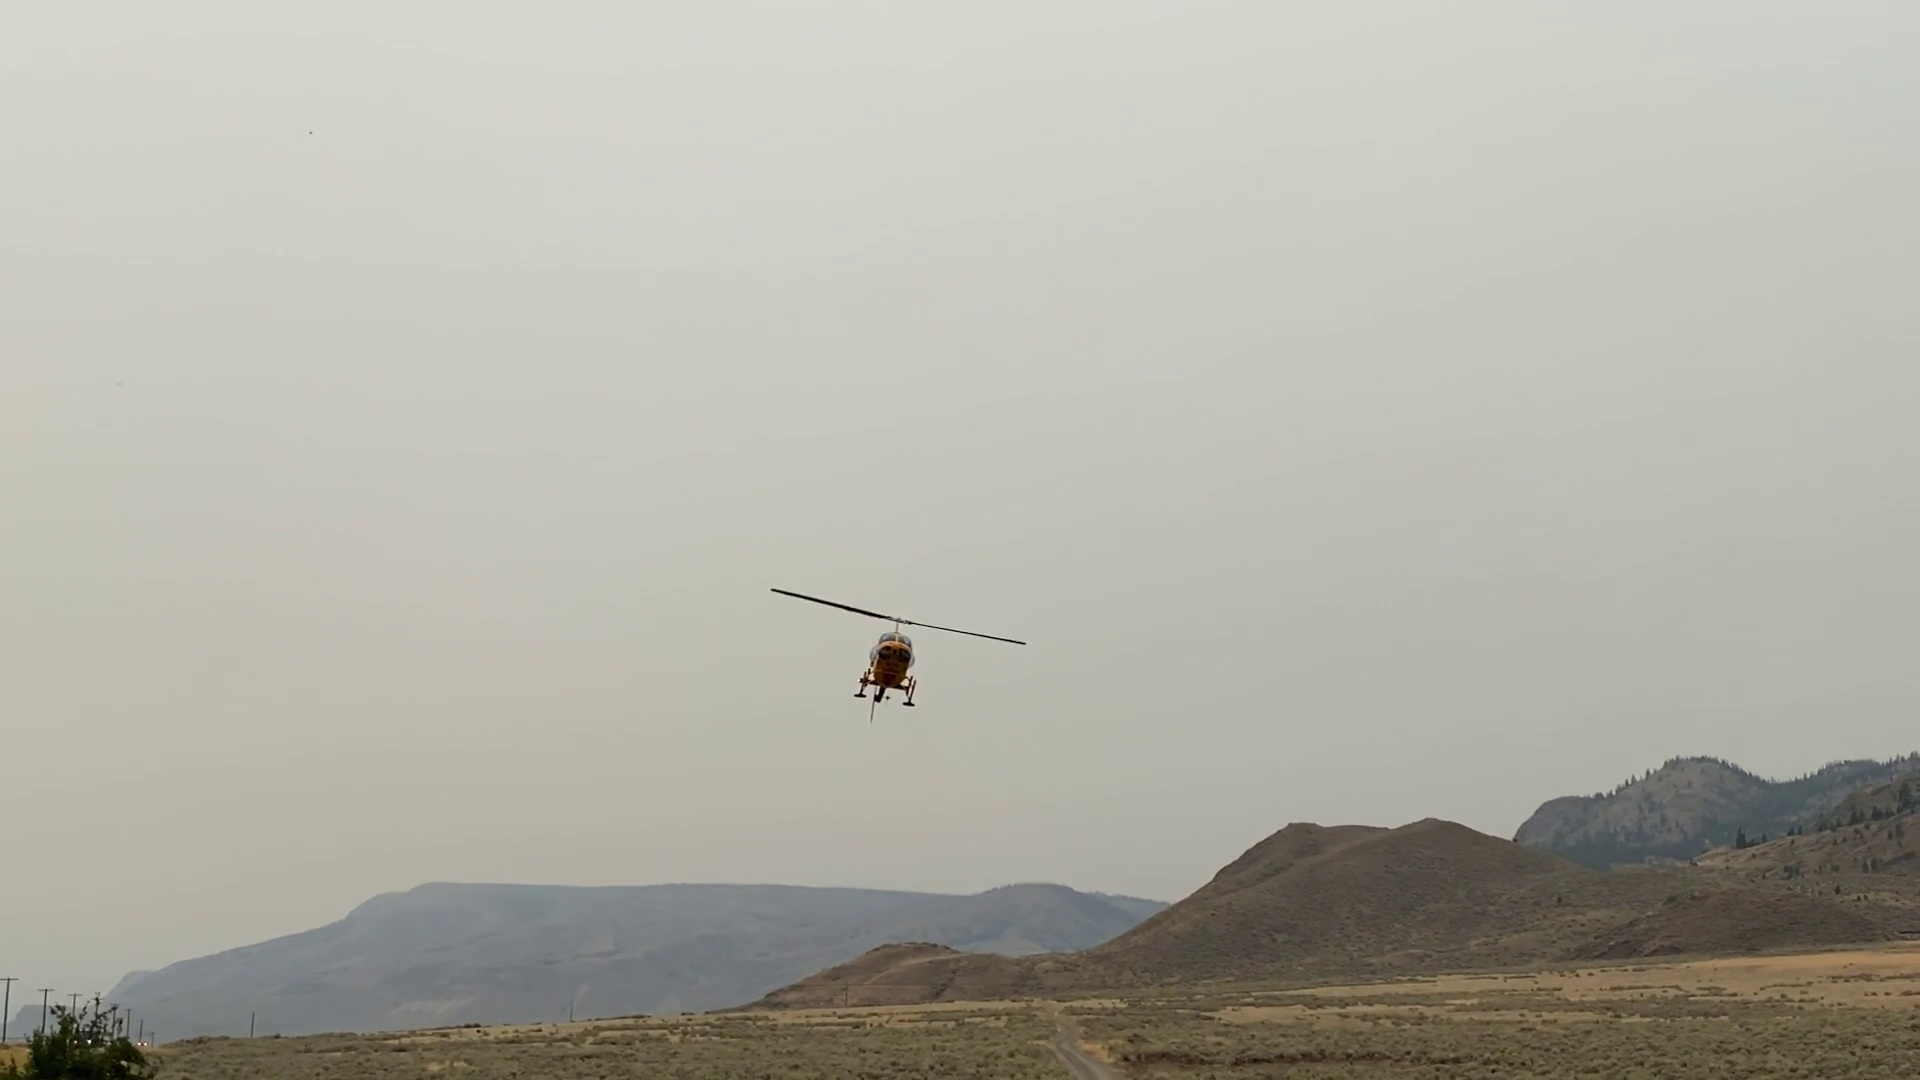heli: (767, 585, 1026, 705)
